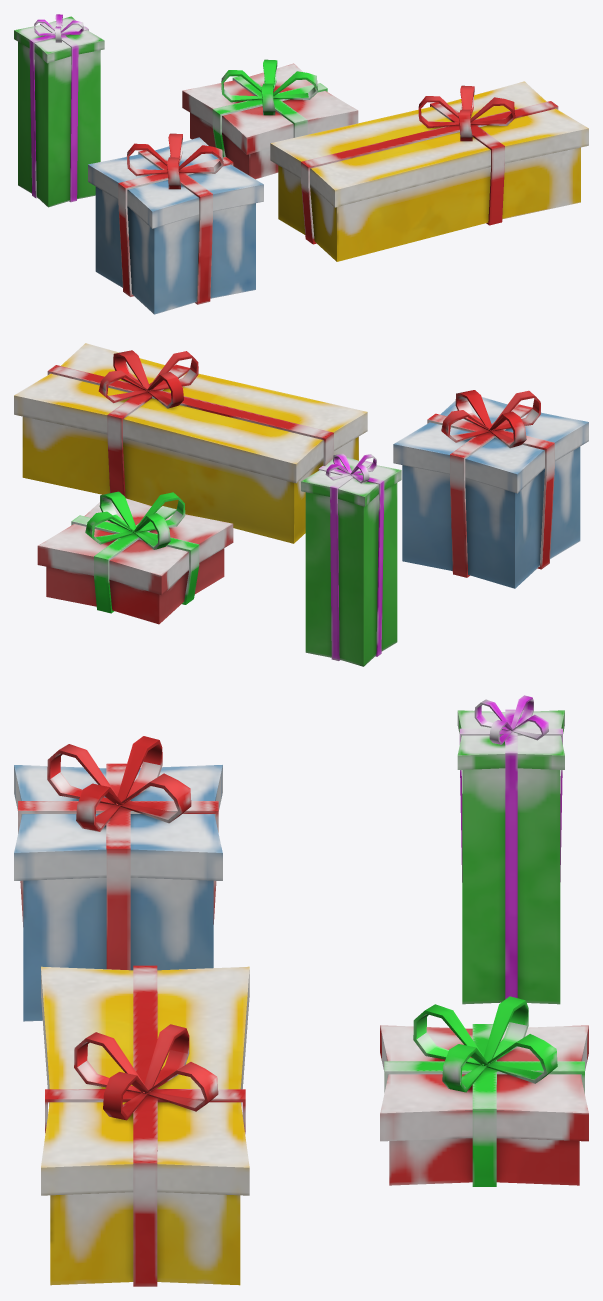
File: Gifts.fbx
3 views of the same model, one above another, from view 1: azimuth 30°, elevation 25°; view 2: azimuth 150°, elevation 25°; view 3: azimuth 270°, elevation 25° (orthographic). The views are drawn at different scales.
Visible parts, largest first — view 1: GiftLong.002, Gift.002, GiftTall.002, Gift2.002; view 2: GiftLong.002, Gift.002, GiftTall.002, Gift2.002; view 3: GiftLong.002, Gift.002, Gift2.002, GiftTall.002.
Boxes of the visible parts, x1,y1,x2,y2 form: GiftLong.002: (270, 81, 588, 261); Gift.002: (88, 133, 263, 314); GiftTall.002: (14, 14, 104, 207); Gift2.002: (182, 59, 358, 179); GiftLong.002: (14, 343, 367, 543); Gift.002: (393, 390, 588, 588); GiftTall.002: (301, 453, 401, 666); Gift2.002: (37, 491, 233, 624); GiftLong.002: (41, 965, 249, 1286); Gift.002: (14, 736, 222, 1021); Gift2.002: (380, 996, 588, 1186); GiftTall.002: (457, 695, 564, 1004).
Bounding box in the file's own units: 4.67 × 1.73 × 3.23.
